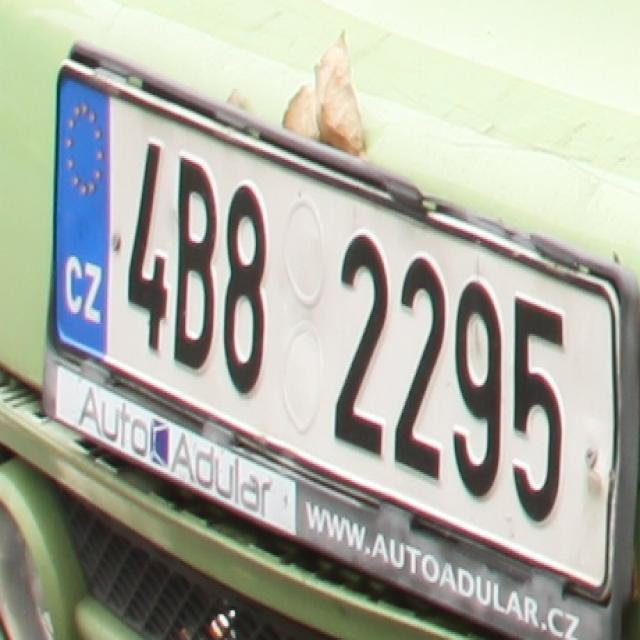2: (395, 253, 447, 478), (336, 227, 384, 456)
4: (126, 132, 170, 354)
5: (508, 290, 568, 518)
8: (218, 182, 272, 394)
9: (450, 274, 504, 503)
B: (171, 152, 217, 373)
